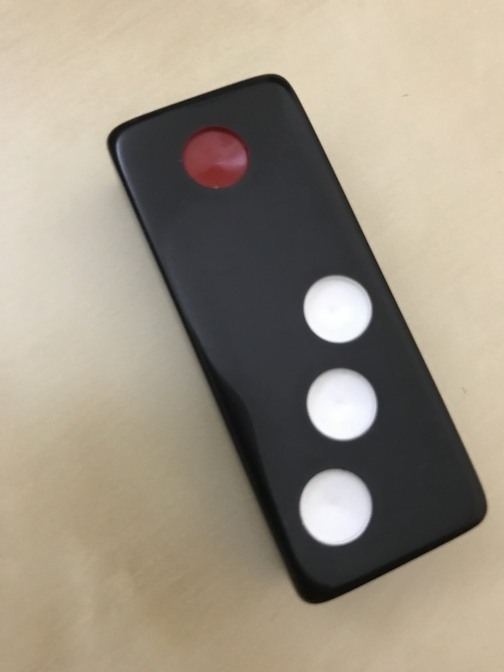goose: (106, 74, 490, 605)
